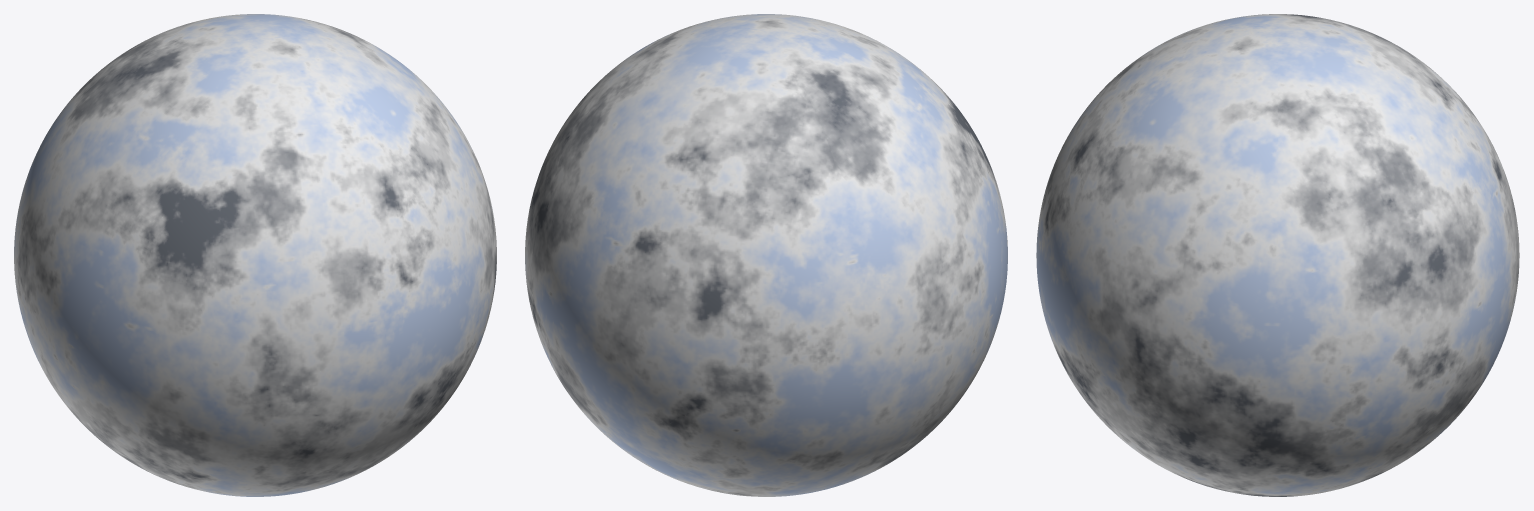
File: ice-planet.glb
3 views of the same model, side by side, from view 1: azimuth 30°, elevation 25°; view 2: azimuth 150°, elevation 25°; view 3: azimuth 270°, elevation 25° (orthographic).
Parts seen in each view (by area): view 1: baked; view 2: baked; view 3: baked.
Part boxes in pixels (x1,y1,x2,y2): baked: [14, 14, 496, 496]; baked: [525, 14, 1007, 496]; baked: [1036, 14, 1519, 496].
Bounding box in the file's own units: 2 × 2 × 2.
1 material, 1 textured.
